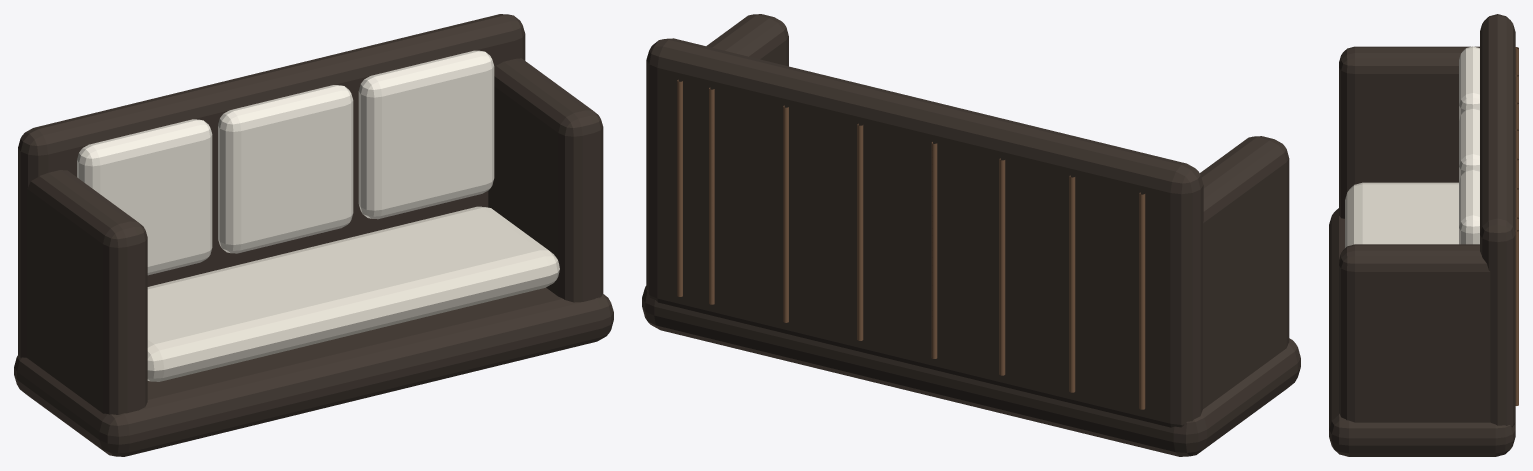
Rendered from bonaire-able.glb.
3 views of the same model, side by side, from view 1: azimuth 30°, elevation 25°; view 2: azimuth 150°, elevation 25°; view 3: azimuth 270°, elevation 25° (orthographic). The views are drawn at different scales.
Parts seen in each view (by area): view 1: Bonaire seat cushion, Bonaire rattan base, Bonaire rattan back, Bonaire left arm, Bonaire right arm, Bonaire back cushion 3, Bonaire back cushion 2, Bonaire back cushion 1; view 2: Bonaire rattan back, Bonaire left arm, Bonaire rattan base, Bonaire right arm, Bonaire back rib 1, Bonaire back rib 2, Bonaire back rib 3, Bonaire back rib 5, Bonaire back rib 4, Bonaire back rib 7, Bonaire back rib 8, Bonaire back rib 6; view 3: Bonaire right arm, Bonaire left arm, Bonaire rattan back, Bonaire rattan base, Bonaire seat cushion, Bonaire back cushion 3, Bonaire back cushion 1, Bonaire back cushion 2, Bonaire back rib 8.
Boxes of the visible parts, <box> form: Bonaire seat cushion: <box>147,206,559,381</box>; Bonaire rattan base: <box>14,287,613,456</box>; Bonaire rattan back: <box>18,14,525,357</box>; Bonaire left arm: <box>27,170,147,414</box>; Bonaire right arm: <box>488,58,603,302</box>; Bonaire back cushion 3: <box>358,50,494,219</box>; Bonaire back cushion 2: <box>218,85,353,253</box>; Bonaire back cushion 1: <box>77,119,212,275</box>; Bonaire rattan back: <box>646,38,1203,427</box>; Bonaire left arm: <box>1200,136,1289,408</box>; Bonaire rattan base: <box>642,286,1300,456</box>; Bonaire right arm: <box>706,14,788,66</box>; Bonaire back rib 1: <box>1139,192,1145,409</box>; Bonaire back rib 2: <box>1069,175,1075,392</box>; Bonaire back rib 3: <box>999,158,1005,375</box>; Bonaire back rib 5: <box>857,123,863,340</box>; Bonaire back rib 4: <box>931,142,937,358</box>; Bonaire back rib 7: <box>709,87,714,304</box>; Bonaire back rib 8: <box>677,79,682,296</box>; Bonaire back rib 6: <box>783,105,788,322</box>; Bonaire right arm: <box>1339,244,1490,422</box>; Bonaire left arm: <box>1339,46,1479,218</box>; Bonaire rattan back: <box>1480,14,1515,427</box>; Bonaire rattan base: <box>1329,208,1515,456</box>; Bonaire seat cushion: <box>1345,182,1458,247</box>; Bonaire back cushion 3: <box>1459,168,1479,244</box>; Bonaire back cushion 1: <box>1459,46,1479,120</box>; Bonaire back cushion 2: <box>1459,107,1479,181</box>; Bonaire back rib 8: <box>1515,230,1518,405</box>.
Size of the model in its own units: 2.65 by 1.31 by 0.957.
